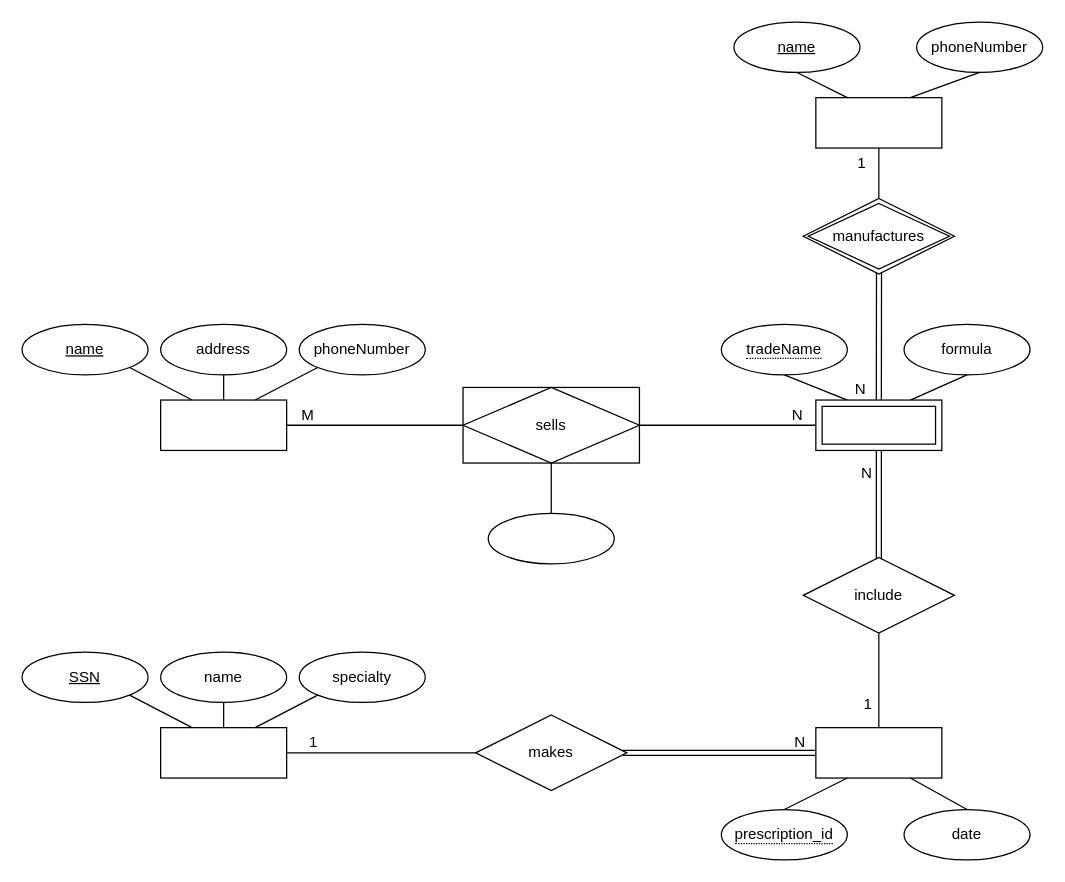
The diagram is 1065 pixels wide and 882 high, and some of its shapes have lost their labels. Here are the shapes that lost their labels. From the top down, the centre of each, then its label:
the point at 878,122: pharmaceutical company
the point at 223,424: pharmacy
the point at 878,424: drug
the point at 550,538: price
the point at 223,752: doctor
the point at 878,752: prescription
